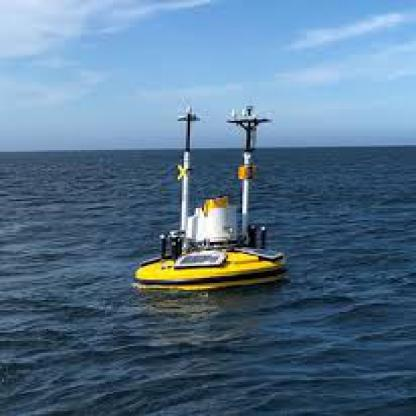buoy: (131, 99, 299, 295)
